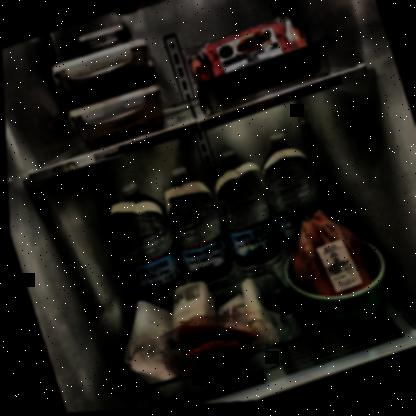beef: (200, 17, 300, 79)
chicken: (282, 205, 372, 306)
